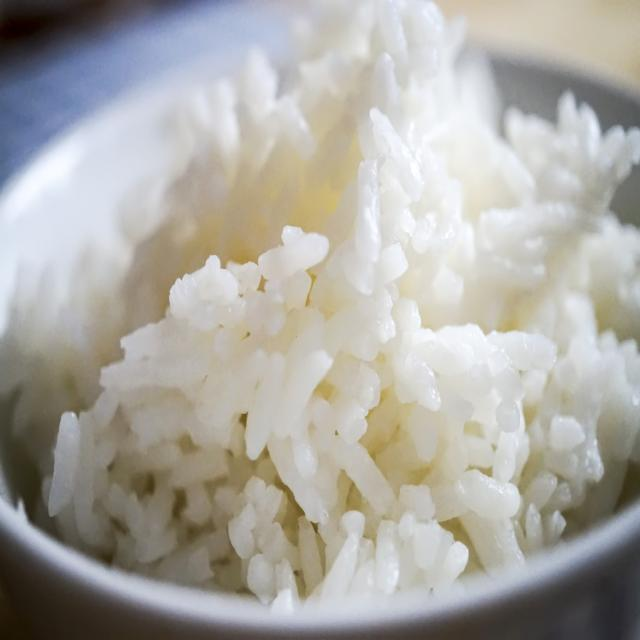arroz: (7, 33, 637, 630)
